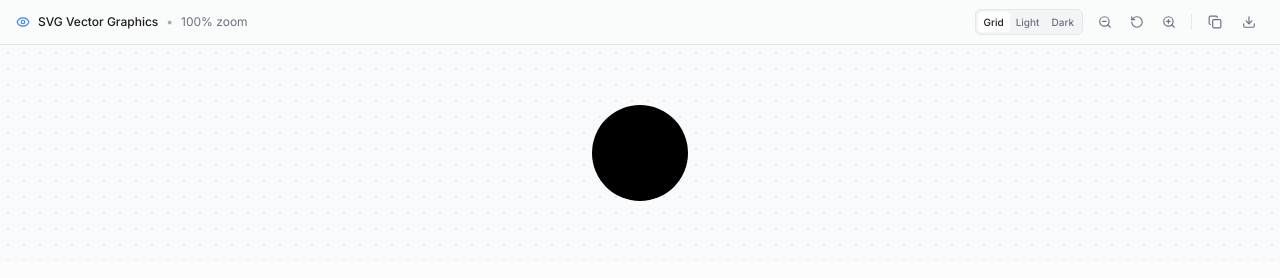
Artifact Renderers & Utilities › SvgDiagramRenderer › renders svg and zoom controls
The image size is (1280, 278).
Expected: the text "SVG Vector Graphics" is shown, [38,14,158,30]
Expected: the text "100% zoom" is shown, [181,14,248,30]
Click the button named "zoom in". click: (1169, 22)
box: [1155,8,1183,36]
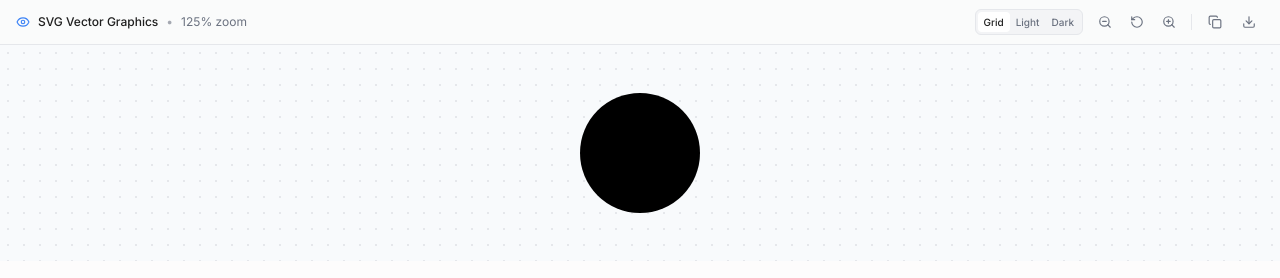
Result: the text "125% zoom" is shown at [181,14,247,30]
